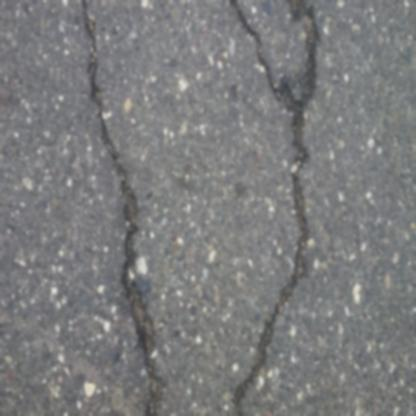Cracks: (216, 0, 325, 416), (79, 0, 164, 416)
